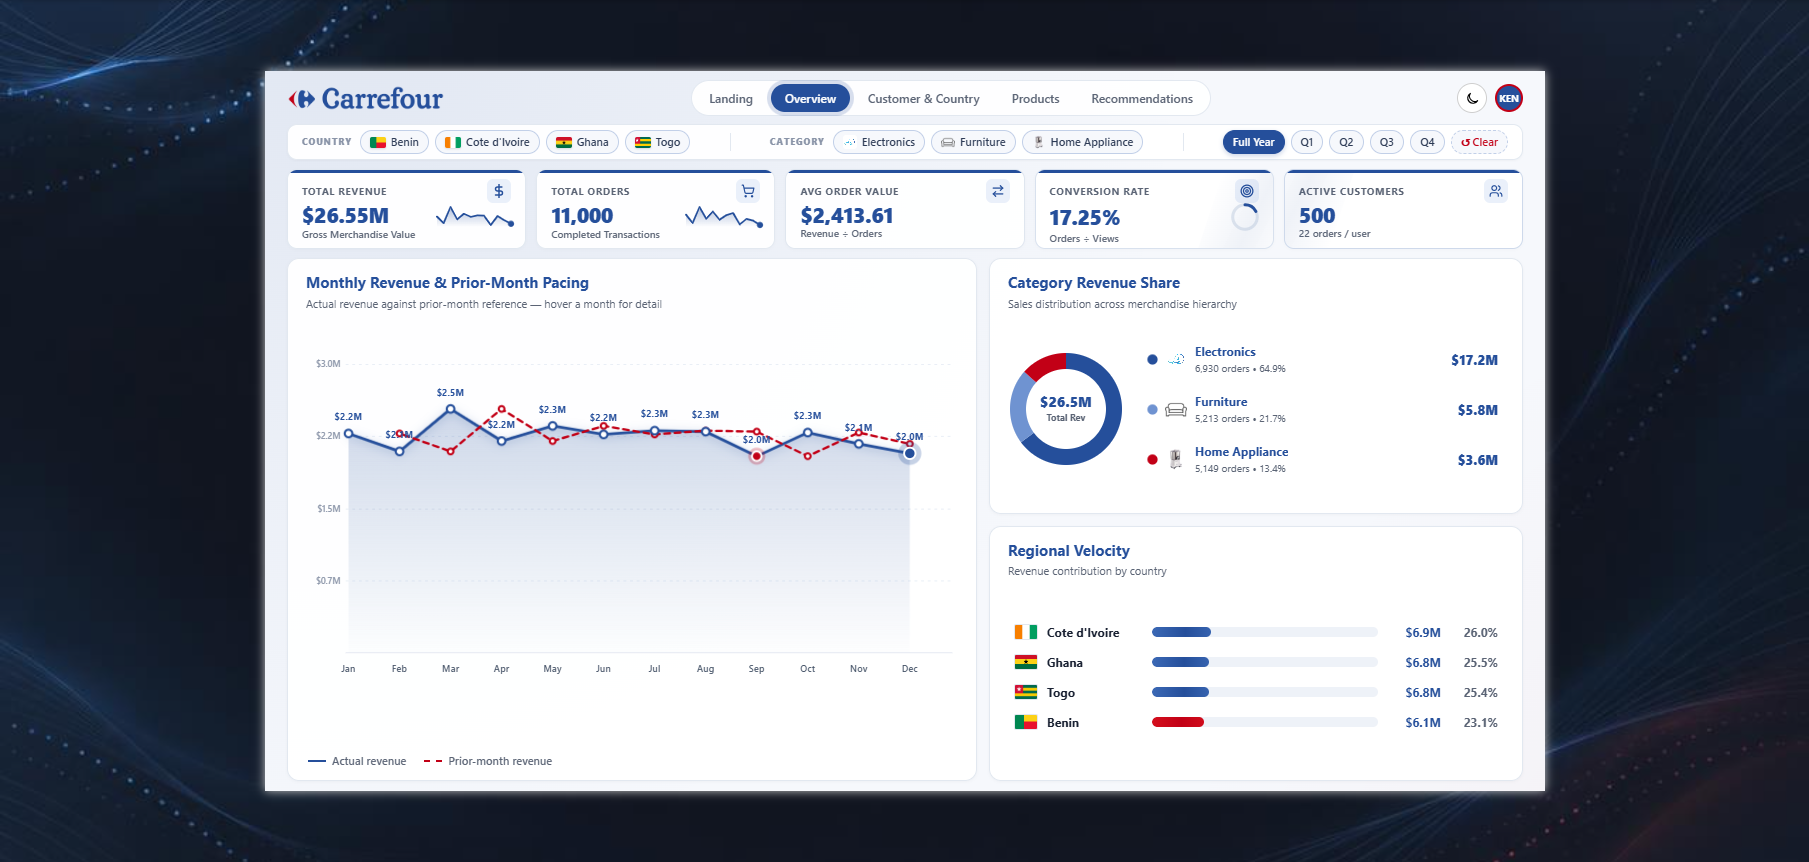

What the dashboard file says about the page in this screenshot:
{"tool":"powerbi","page":{"name":"Overview Page","canvas":[1280,720],"ordinal":1},"visuals":[{"type":"htmlContent443BE3AD55E043BF878BED274D3A6855","fields":{"content":["HTML_Visuals.Overview_Page"]},"box":[0,0,1280,720],"z":0},{"type":"advancedSlicerVisual","title":"Country","fields":{"Values":["dim_country.country"]},"box":[96,56,344,32],"z":1000},{"type":"advancedSlicerVisual","title":"Category","fields":{"Values":["dim_category.category"]},"box":[568,56,312,32],"z":2000},{"type":"advancedSlicerVisual","title":"Quarter","fields":{"Values":["dim_date.quarter"]},"box":[1024,56,160,32],"z":3000},{"type":"actionButton","title":"Clear Filters","box":[1184,56,64,32],"z":4000},{"type":"actionButton","title":"Recommendations","box":[820,15,115,24],"z":7000},{"type":"actionButton","title":"Products","box":[740,15,60,24],"z":7250},{"type":"actionButton","title":"Customer & Country","box":[600,15,120,24],"z":7500},{"type":"actionButton","title":"Landing","box":[440,15,55,24],"z":8000}]}

Visuals, with their boxes on the page's 1280x720 design canvas (x1, y1, x2, y2). These are canvas units, not pixel positions in the 1809x862 screenshot, which may show the page scaled, cropped or inside an application window:
htmlContent443BE3AD55E043BF878BED274D3A6855 - HTML_Visuals.Overview_Page: pyautogui.locateOnScreen(0, 0, 1280, 720)
"Country" advancedSlicerVisual: pyautogui.locateOnScreen(96, 56, 440, 88)
"Category" advancedSlicerVisual: pyautogui.locateOnScreen(568, 56, 880, 88)
"Quarter" advancedSlicerVisual: pyautogui.locateOnScreen(1024, 56, 1184, 88)
"Clear Filters" actionButton: pyautogui.locateOnScreen(1184, 56, 1248, 88)
"Recommendations" actionButton: pyautogui.locateOnScreen(820, 15, 935, 39)
"Products" actionButton: pyautogui.locateOnScreen(740, 15, 800, 39)
"Customer & Country" actionButton: pyautogui.locateOnScreen(600, 15, 720, 39)
"Landing" actionButton: pyautogui.locateOnScreen(440, 15, 495, 39)
